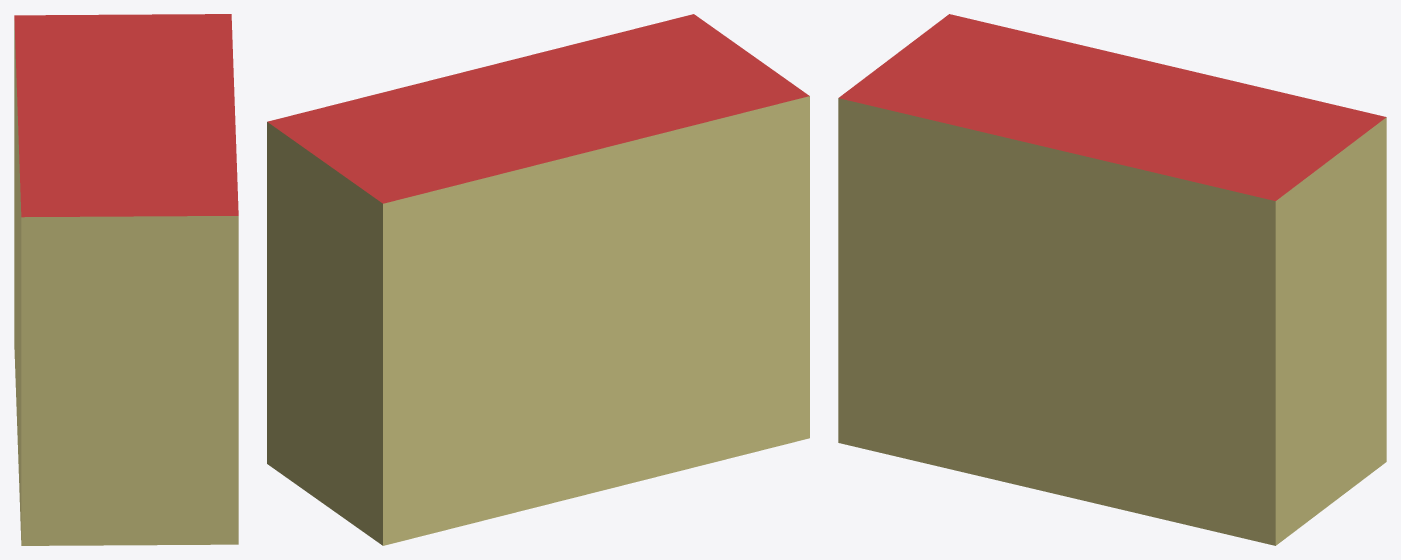
3 views of the same model, side by side, from view 1: azimuth 30°, elevation 25°; view 2: azimuth 150°, elevation 25°; view 3: azimuth 270°, elevation 25° (orthographic). The views are drawn at different scales.
Visible parts, largest first — view 1: group_4, group_3; view 2: group_4, group_3; view 3: group_4, group_3.
Part boxes in pixels (x1,y1,x2,y2): group_4: (14,21,238,545); group_3: (14,14,238,217); group_4: (267,96,809,545); group_3: (267,14,809,203); group_4: (838,98,1386,545); group_3: (839,14,1386,200).
Bounding box in the file's own units: 6.61 × 8.18 × 5.68.
